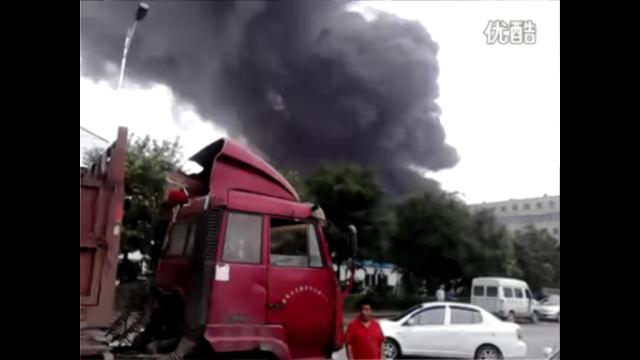smoke: (132, 3, 440, 89), (178, 92, 444, 131), (260, 135, 458, 171), (80, 1, 128, 82), (379, 172, 445, 197)
